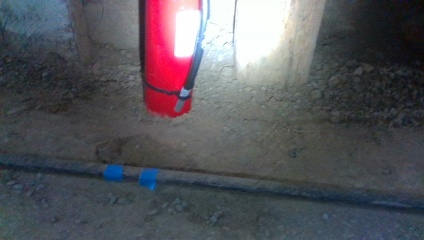fire_extinguisher: (141, 0, 213, 120)
